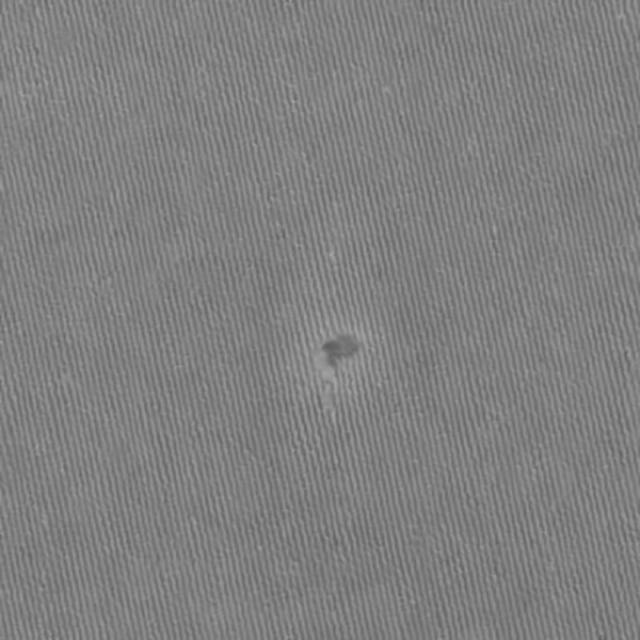seam: (230, 313, 450, 447)
